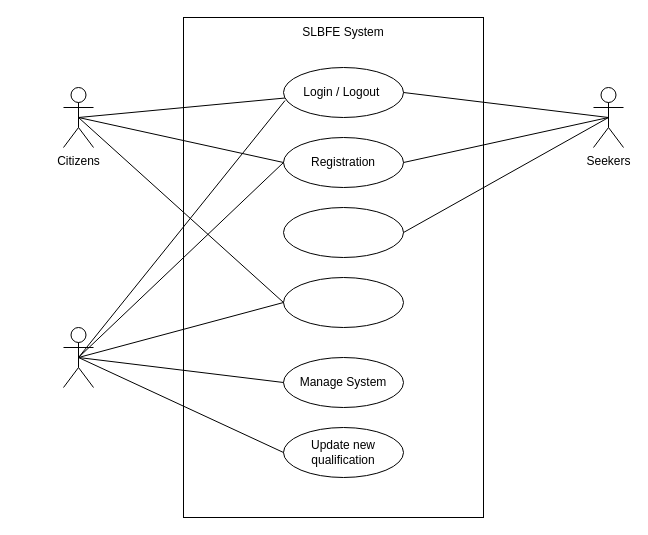
Some shapes in this 648 by 535 pixel diagram are drawn without their labels. The box of each missing label's shape, as (x1, y1, x2, y2) in pixels:
Bureau Officers/ admin: (62, 326, 94, 388)
Edit Profile: (282, 276, 404, 328)
Upload Qualification: (282, 206, 404, 258)
